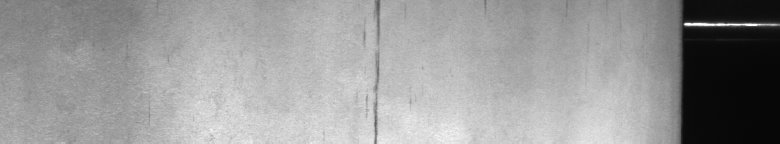hd: (363, 4, 386, 136)
